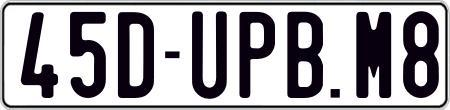4: (20, 10, 63, 99)
5: (69, 12, 105, 99)
8: (403, 11, 432, 98)
B: (287, 11, 323, 103)
D: (116, 9, 154, 97)
M: (355, 10, 395, 98)
P: (238, 9, 279, 101)
U: (189, 10, 230, 100)
